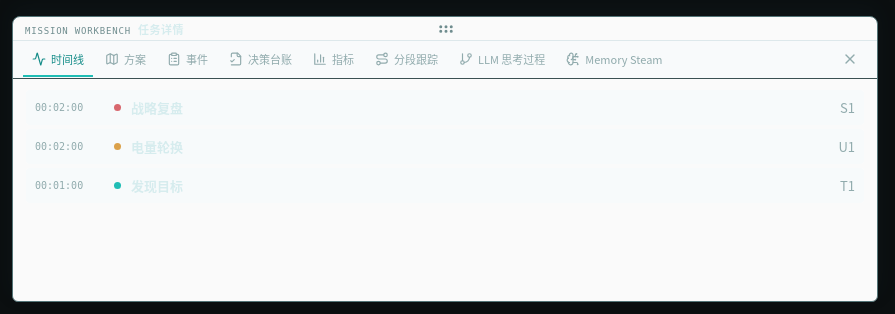
Scenario: BottomDrawer adaptive events › keeps the event tab on the accumulated event feed
This screenshot has width=895, height=314.
Click the tab "事件".
click(188, 60)  # box [158,42,217,76]
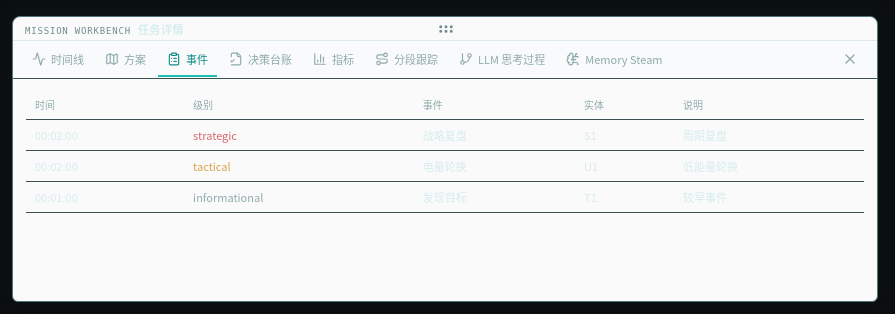
Now the text "较早事件" is shown, box [674,182,864,212]
Now the text "周期复盘" is shown, box [674,120,864,150]
